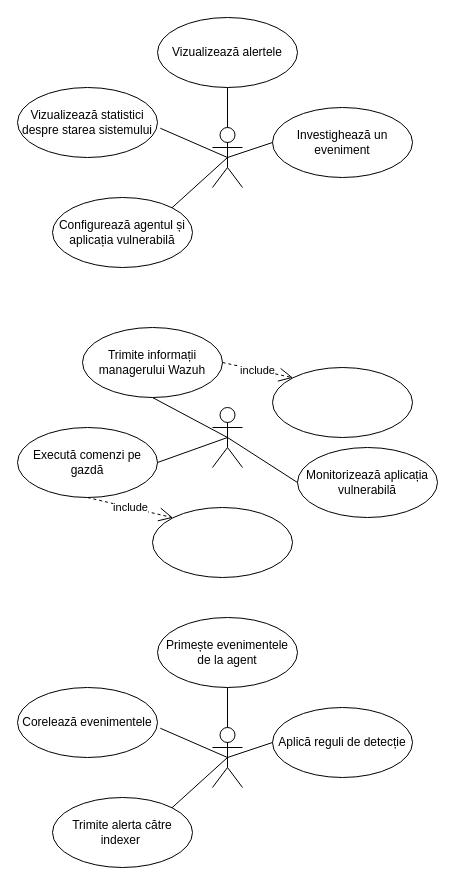
The diagram is 455 pixels wide and 885 high, and some of its shapes have lost their labels. Here are the shapes that lost their labels. From the top down, the centre of each, then its label:
point 227,157: SOC Admin
point 342,402: Colectează informații despre evenimentele de pe gazdă
point 227,437: Agent Wazuh
point 222,542: Blochează o adresă ip
point 227,757: Wazuh manager
